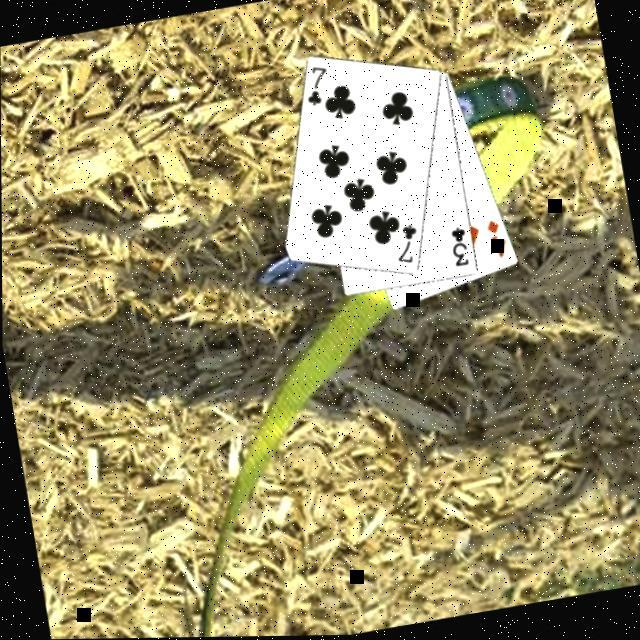3C: (447, 226, 475, 273)
4D: (484, 219, 513, 266)
7C: (301, 64, 337, 112), (391, 223, 426, 271)
